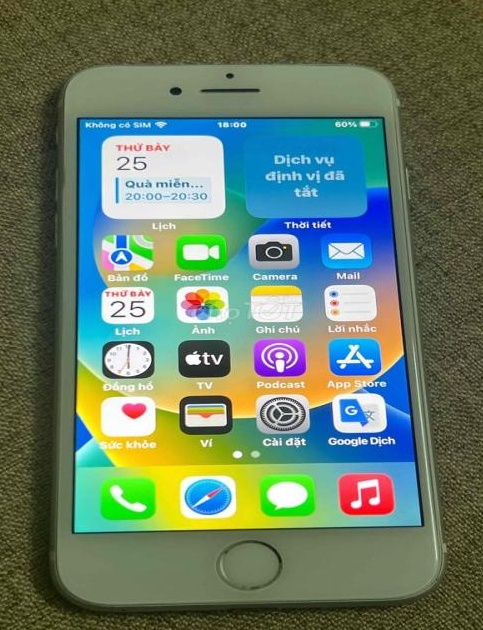scratch: (218, 540, 281, 592)
